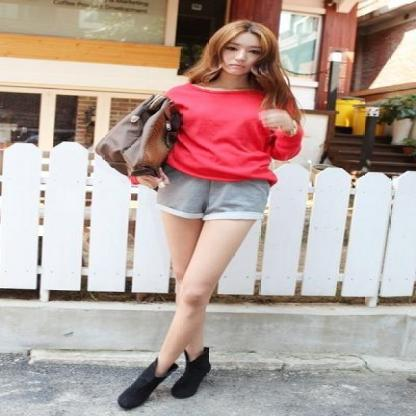bag: (96, 95, 185, 184)
shirt: (165, 78, 303, 182)
shoe: (118, 348, 210, 410)
shorts: (156, 170, 276, 224)
